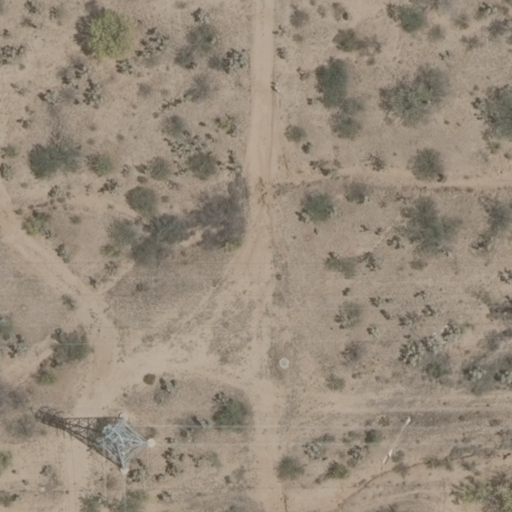TT: (86, 414, 161, 473)
